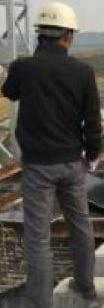boots: (68, 277, 96, 299), (1, 1, 1, 1)
hard-hat: (32, 1, 80, 34)
